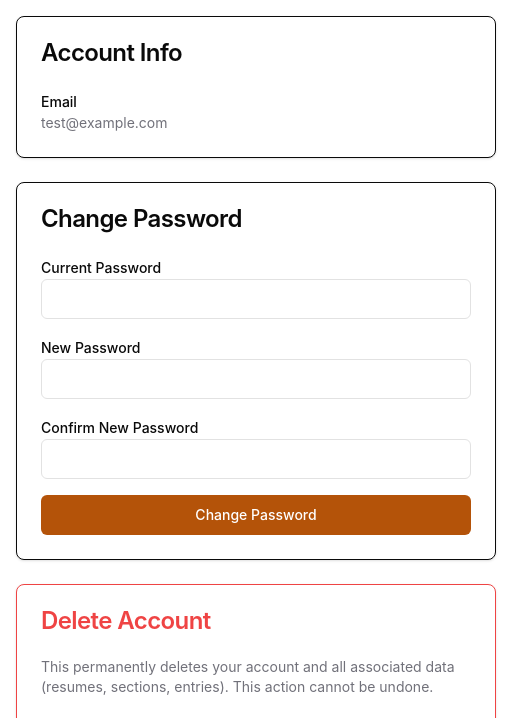
Test: AccountView › Change Password › shows error from server on failed password change
Type "wrong" into the password field with id "current-password" at (256, 299), box [41,279,471,319]
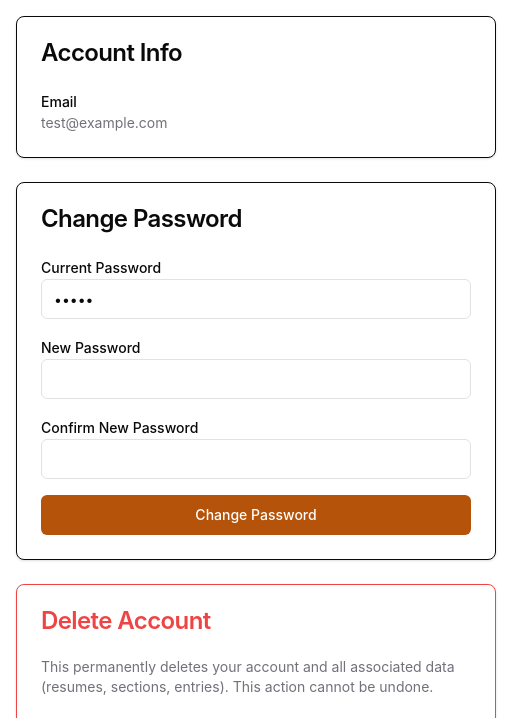
Type "newpassword123" into the password field with id "new-password" at (256, 379), box [41,359,471,399]
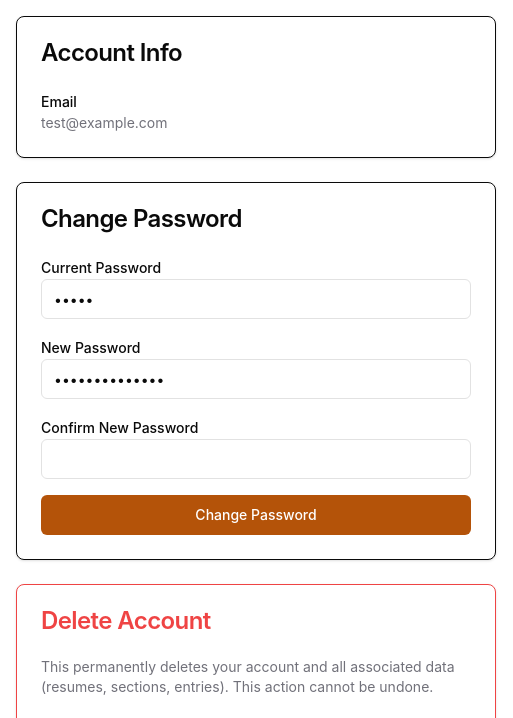
Type "newpassword123" into the password field with id "confirm-new-password" at (256, 459), box [41,439,471,479]
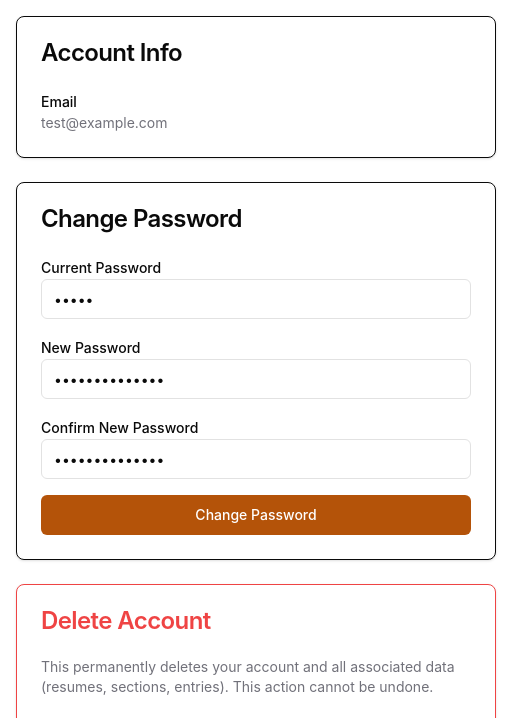
Submit the form that starts with "Current Password", box [41,255,471,535]
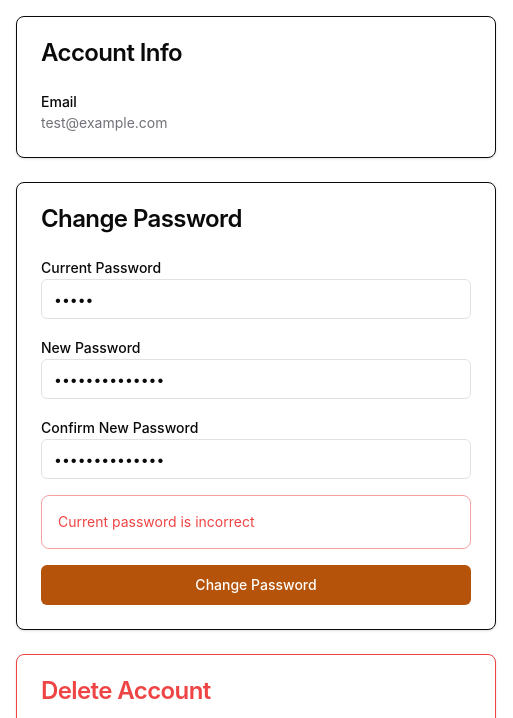
Expected: the message "Current password is incorrect" is shown, [41,495,471,549]
